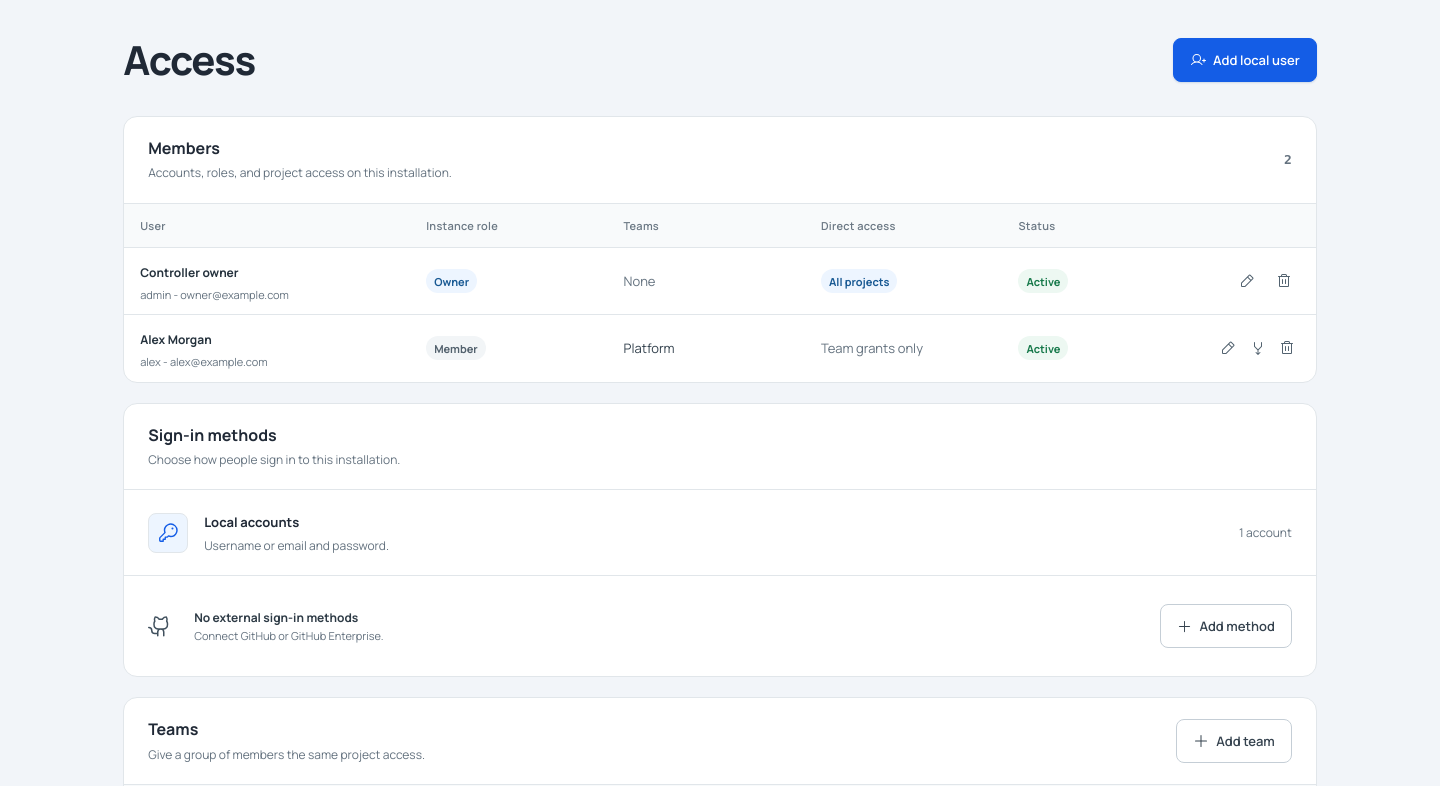
connected instance access › creates a local account with project access from the connected page
The image size is (1440, 786).
Expected: the element "Members" is shown, [123,116,1317,383]
Expected: the element "Sign-in methods" is shown, [123,403,1317,677]
Click the button "Add local user" at [1245, 60], box [1173,38,1317,82]
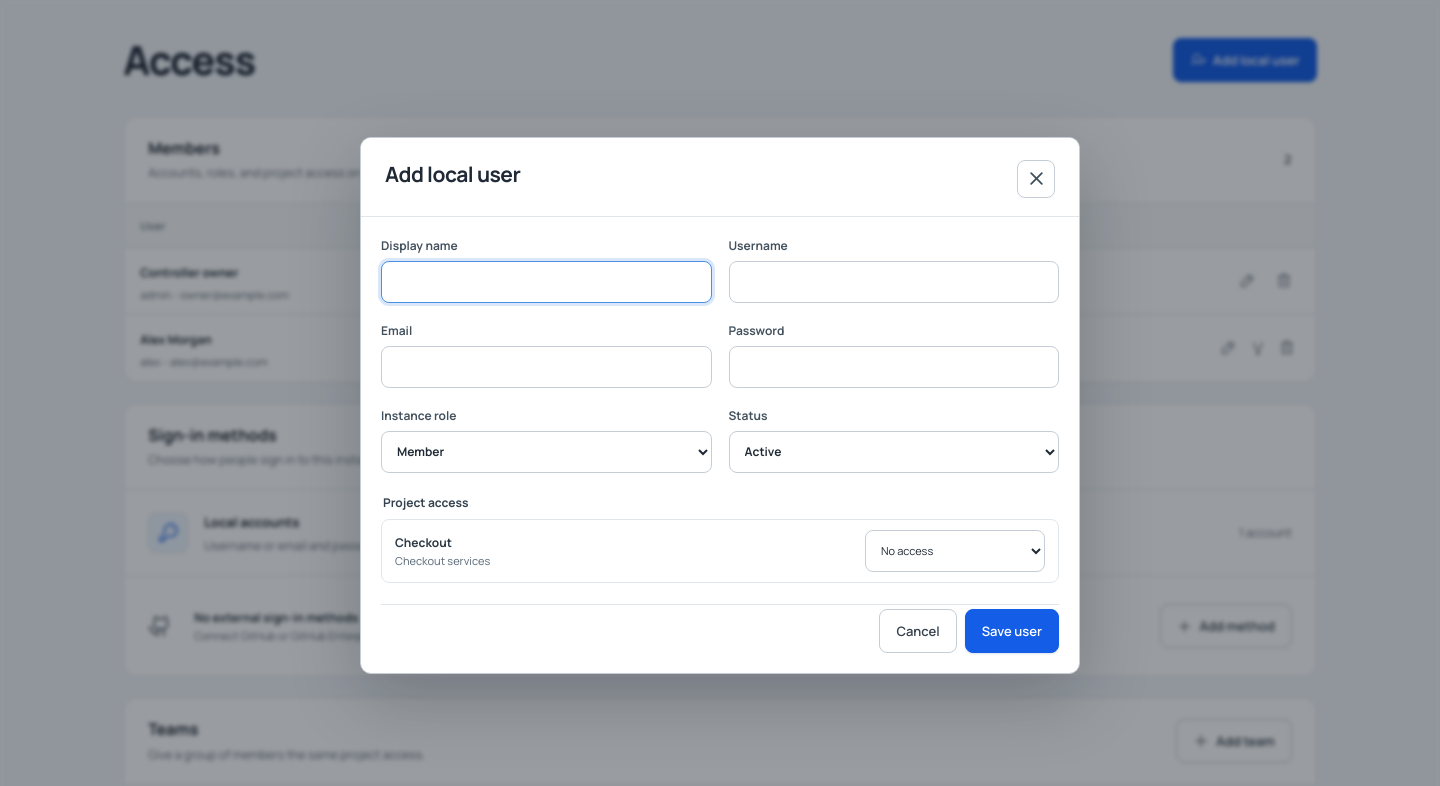
Type "Local teammate" into the field labelled "Display name" at [546, 282], box [381,260,712,302]
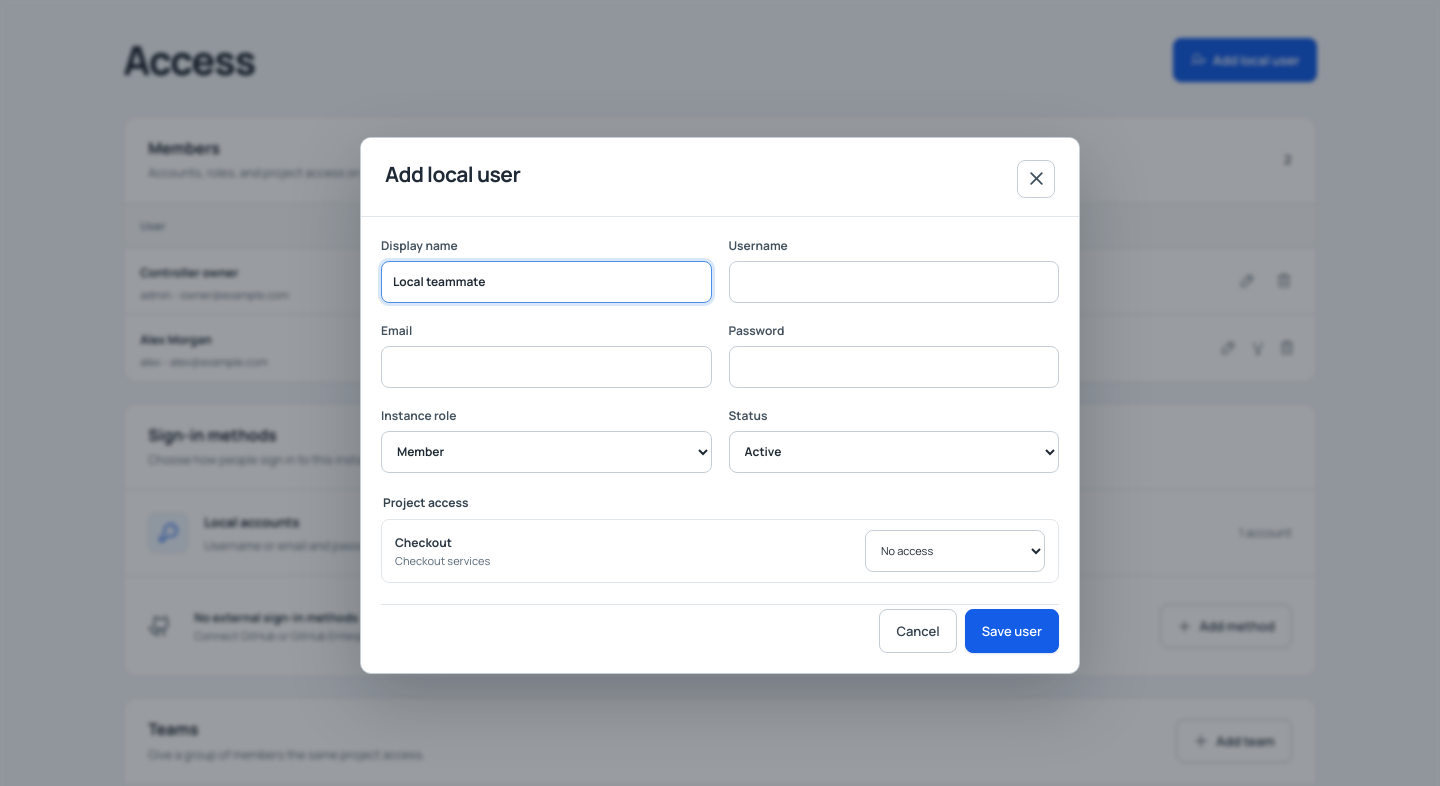
Type "teammate" into the field labelled "Username" at [894, 282], box [728,260,1059,302]
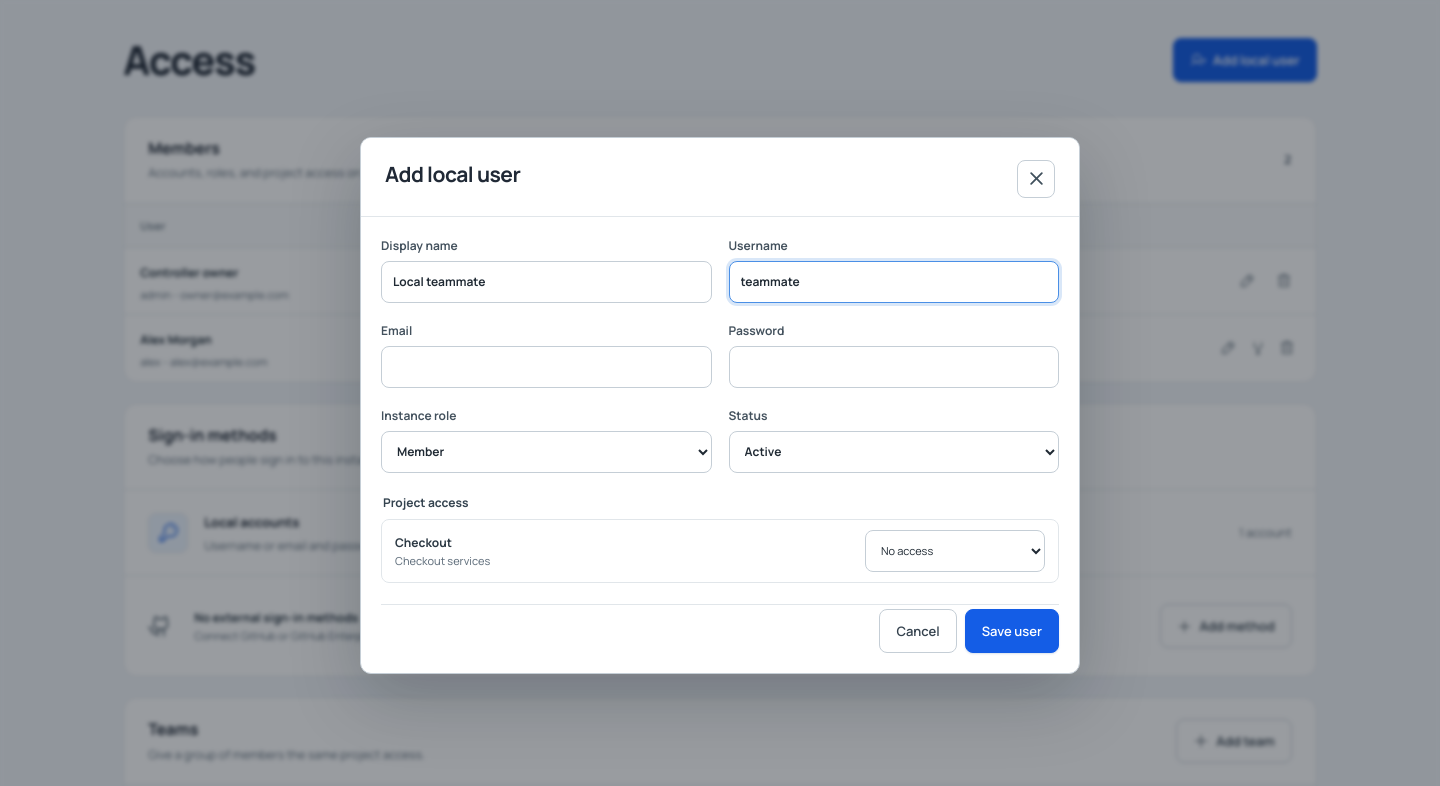
Type "teammate-password" into the password field labelled "Password" at [894, 366], box [728,346,1059,388]
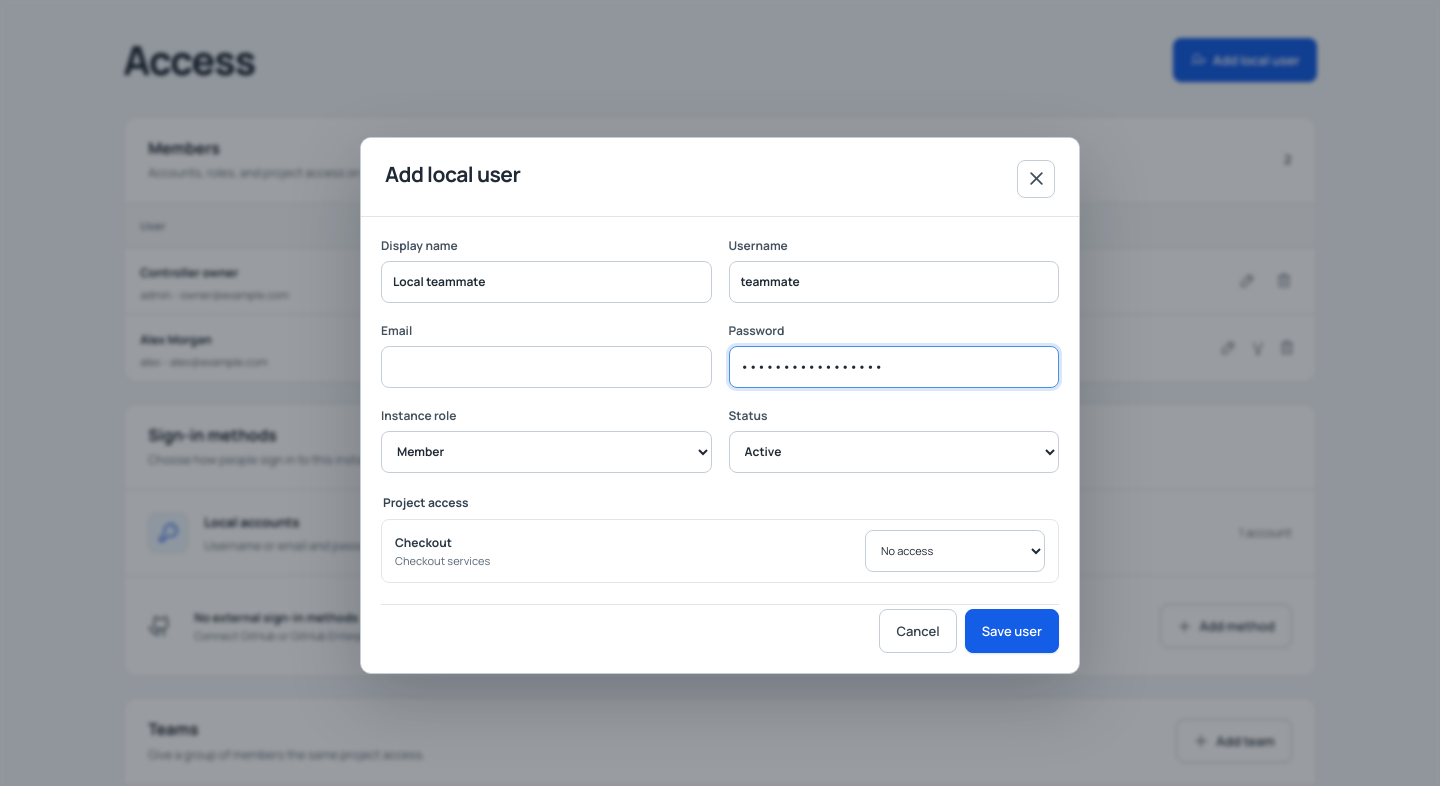
Select "Viewer" in the dropdown named "Checkout role" at [955, 550], box [865,530,1045,572]
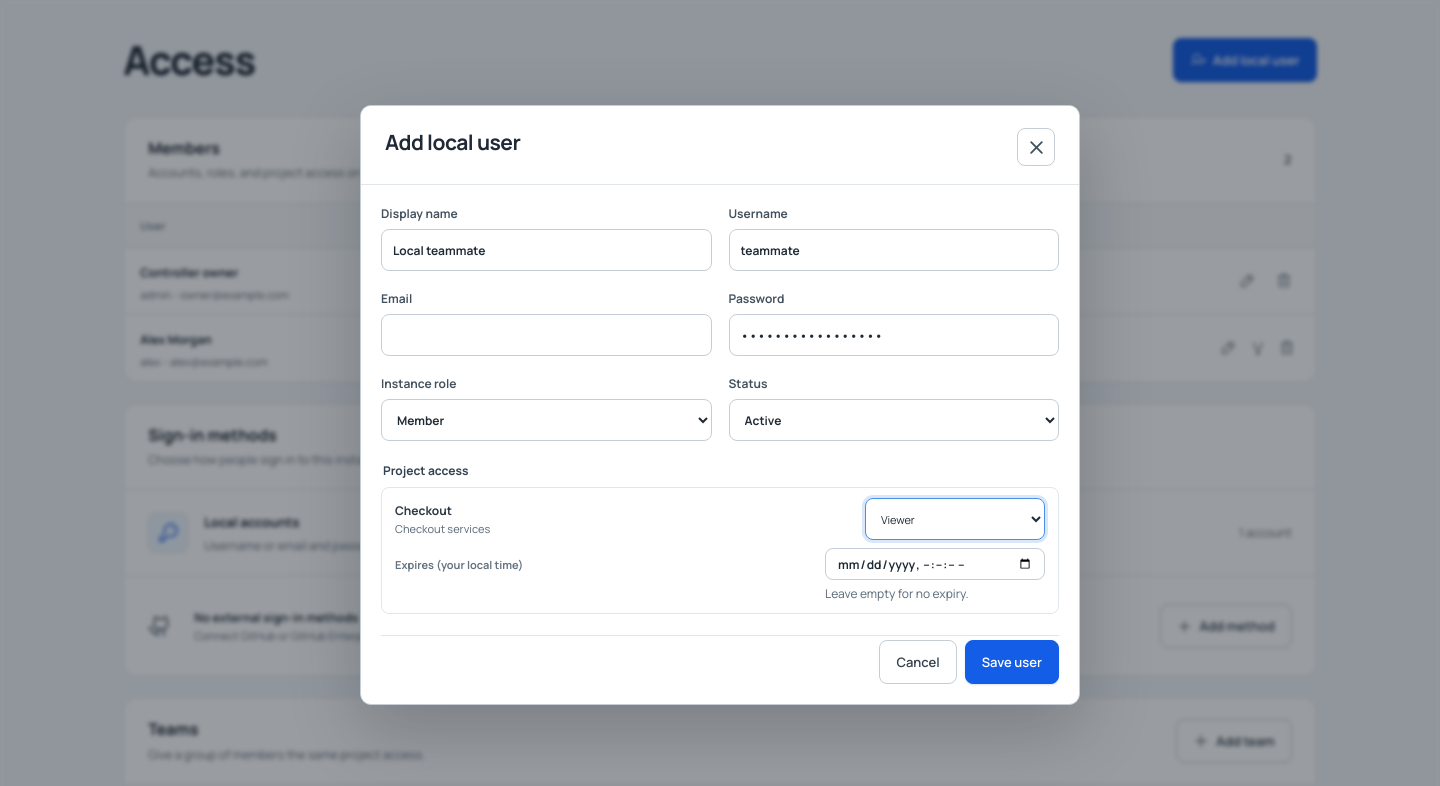
Click the button "Save user" at [1012, 662], box [965,640,1059,684]
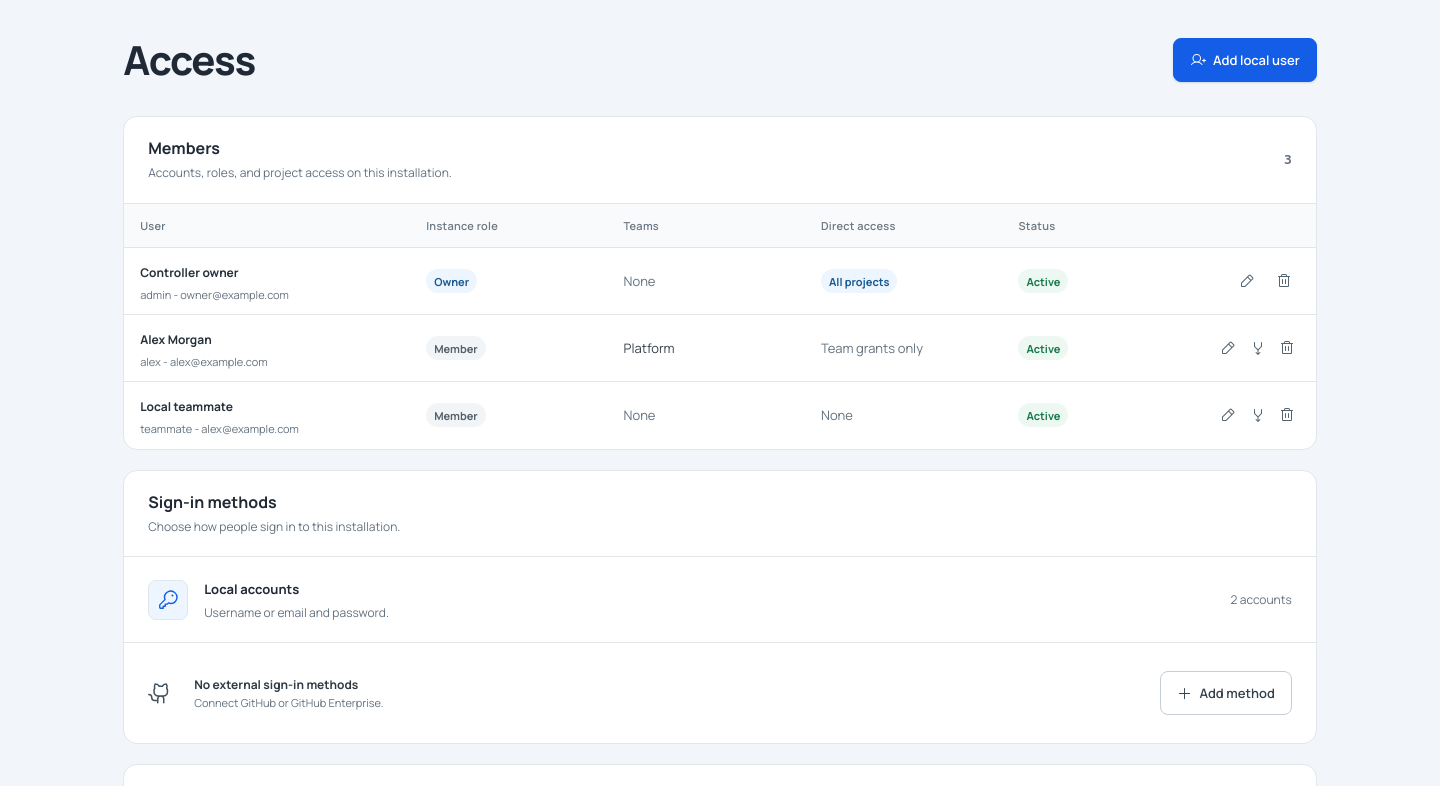
Expected: the text "Local teammate" is shown, [140,398,233,415]
Expected: the dialog is gone
